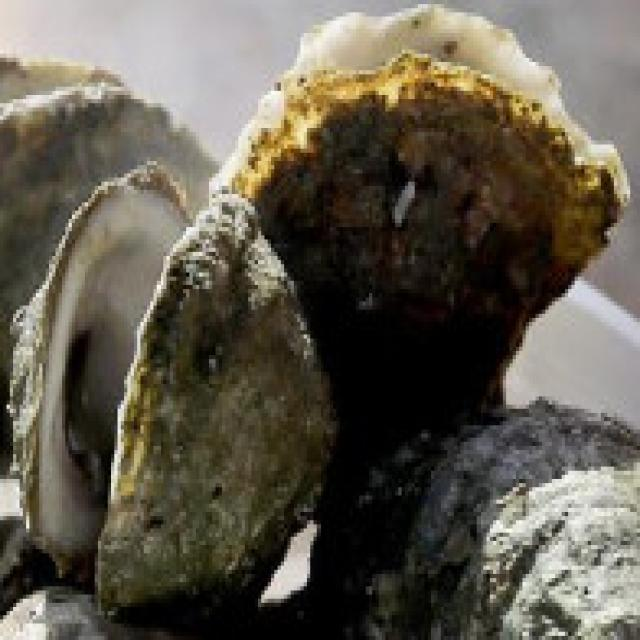Oyster-Indeterminate: (346, 405, 640, 640), (0, 498, 169, 640)
Oyster-Open: (216, 8, 630, 526), (10, 165, 335, 626), (0, 56, 213, 477)
